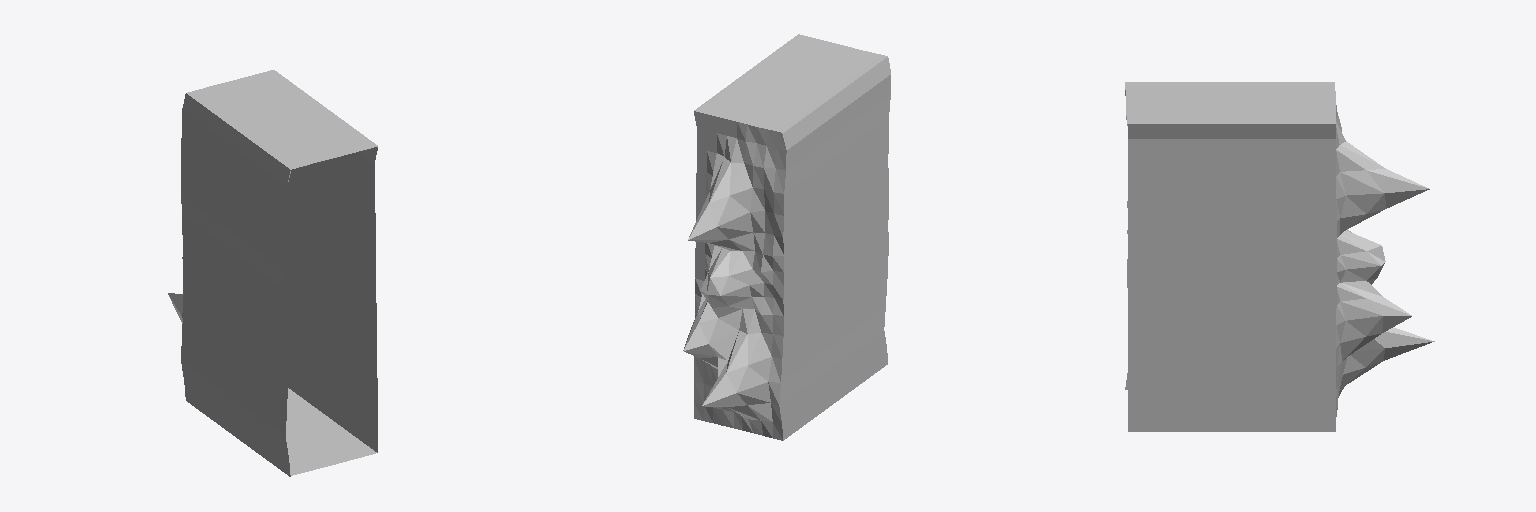
The model's file is mountainBig.obj.
3 views of the same model, side by side, from view 1: azimuth 30°, elevation 25°; view 2: azimuth 150°, elevation 25°; view 3: azimuth 270°, elevation 25° (orthographic).
Parts seen in each view (by area): view 1: Sahne_Plane; view 2: Sahne_Plane; view 3: Sahne_Plane.
Part boxes in pixels (x1,y1,x2,y2): Sahne_Plane: (168,70,377,476); Sahne_Plane: (683,34,890,440); Sahne_Plane: (1125,82,1434,431).
Bounding box in the file's own units: 3.13 × 9.99 × 9.08.